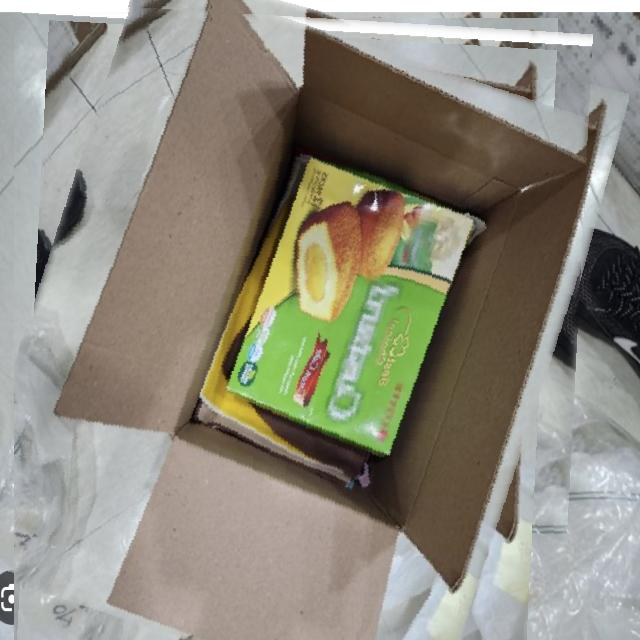biodegradable: (14, 0, 593, 640), (120, 145, 400, 425)
